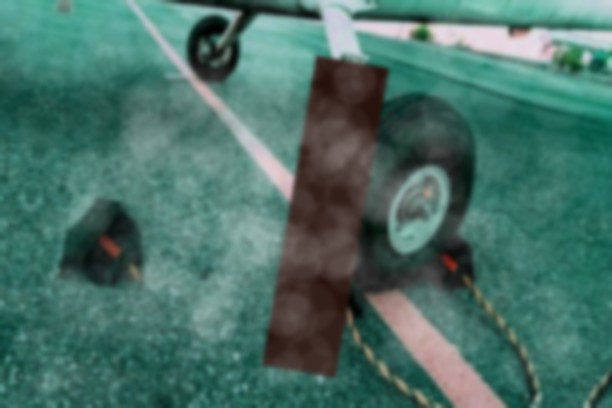chock: (268, 209, 381, 335), (58, 193, 156, 294), (411, 223, 484, 298)
wheel: (310, 79, 490, 306), (179, 7, 246, 87)
